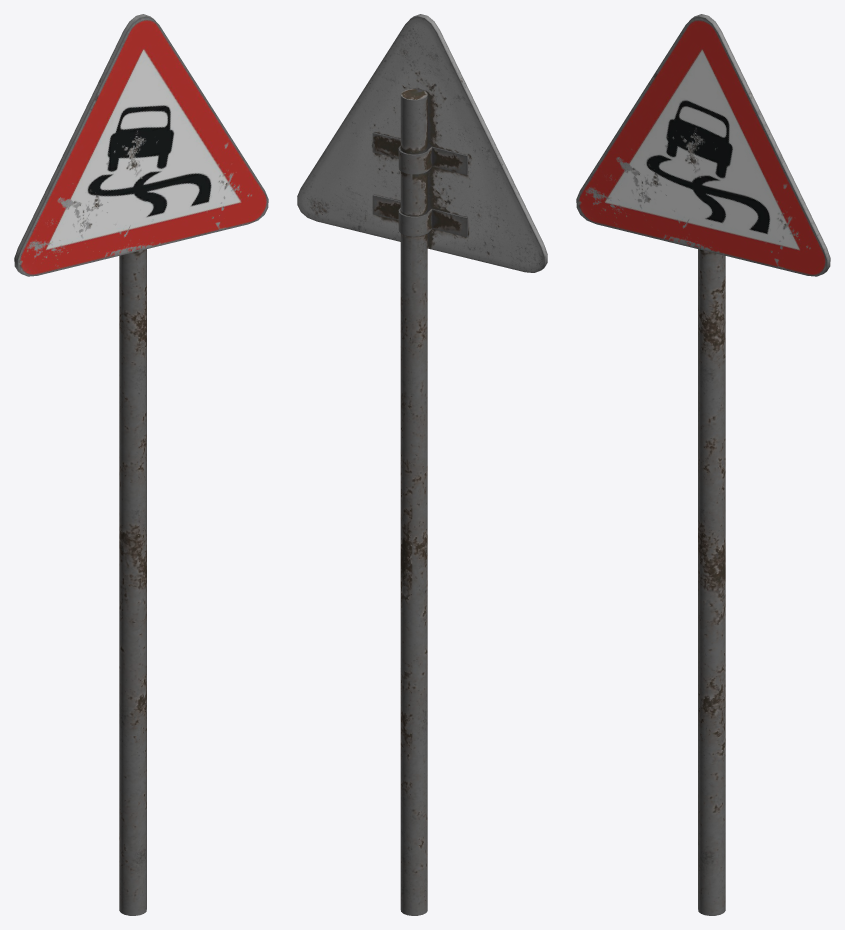
File: sign_slippery_road.glb
The picture shows the model from 3 angles, left to right: view 1: azimuth 30°, elevation 25°; view 2: azimuth 150°, elevation 25°; view 3: azimuth 330°, elevation 25°; orthographic projection.
Parts seen in each view (by area): view 1: Slippery road sign; view 2: Slippery road sign; view 3: Slippery road sign.
Part boxes in pixels (left/top/right/bottom): Slippery road sign: left=14, top=14, right=268, bottom=915; Slippery road sign: left=297, top=14, right=547, bottom=915; Slippery road sign: left=576, top=14, right=830, bottom=915.
Size of the model in its own units: 0.6421 by 2.2 by 0.0796.
Materials: 1 (1 with a texture image).
